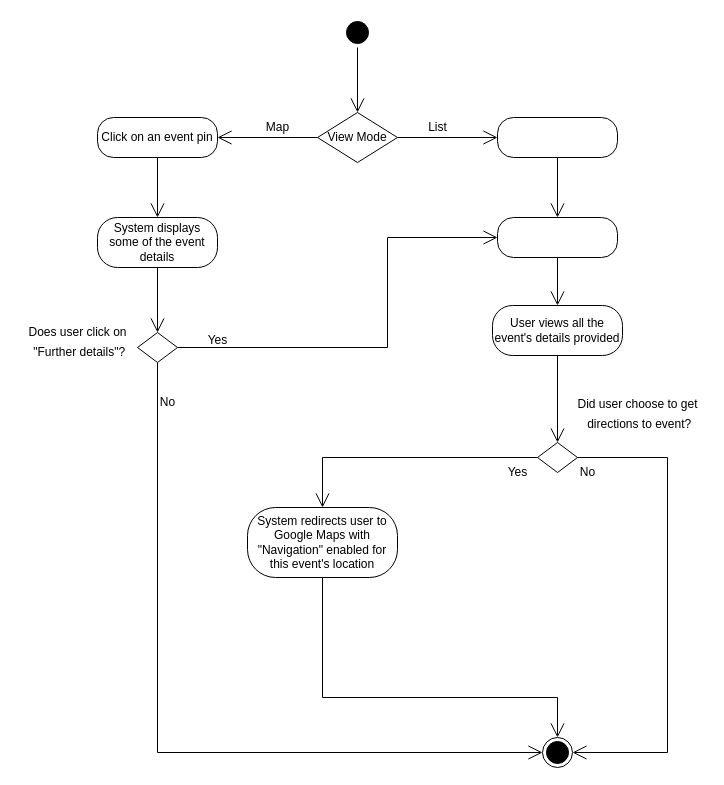
Some shapes in this 724 by 785 pixel diagram are drawn without their labels. Here are the shapes that lost their labels. From the top down, the centre of each, then its label:
At point 557,137: "Click on an event".
At point 557,237: "System Redirects user to event's page".
